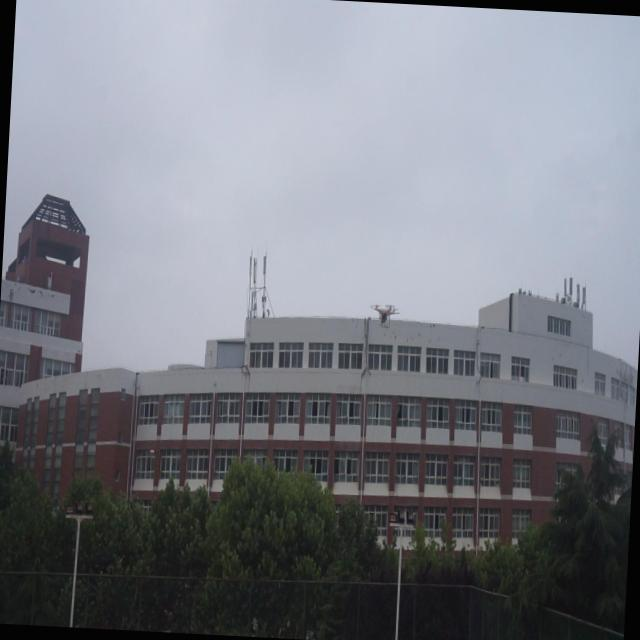drone: (368, 298, 403, 332)
